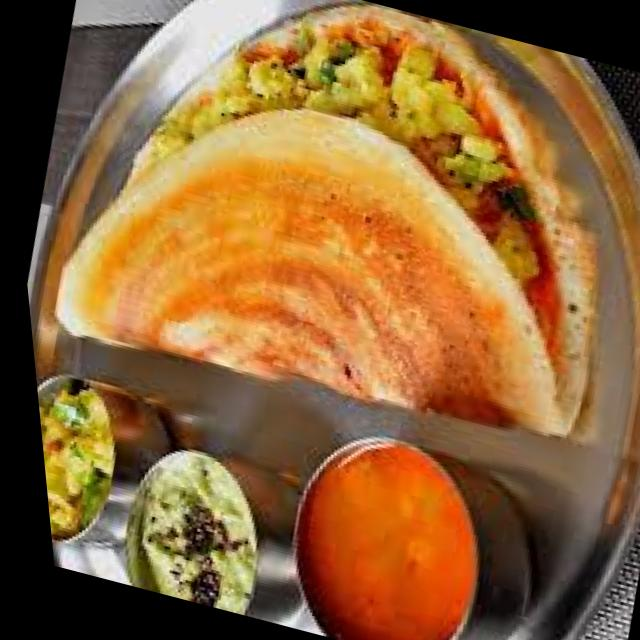DOSA: (47, 0, 609, 447)
SAMBAR: (297, 428, 508, 640)
VEGGIES: (38, 382, 123, 547)
WHITE CHUTNEY: (130, 450, 269, 614)
